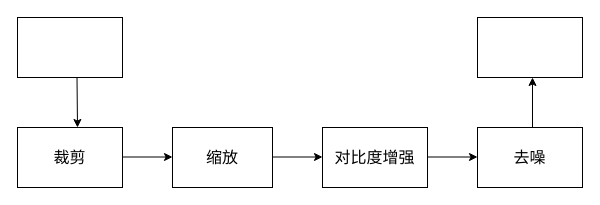
The diagram is 600 pixels wide and 205 high, and some of its shapes have lost their labels. Each missing label, with the centre of its shape:
"图像输入" belongs at (69,47).
"图像输出" belongs at (529,47).
